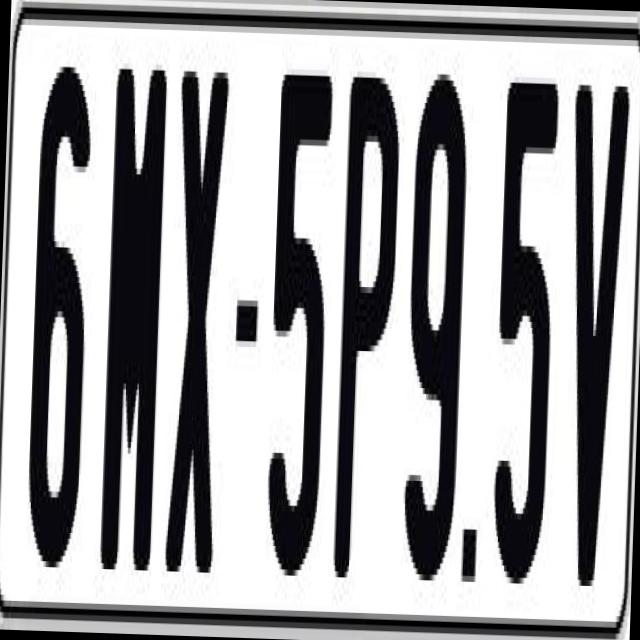5: (264, 56, 338, 594), (491, 64, 564, 578)
6: (21, 60, 90, 585)
9: (396, 55, 467, 587)
M: (94, 68, 170, 582)
P: (332, 59, 404, 572)
V: (554, 84, 622, 616)
X: (161, 70, 233, 573)
